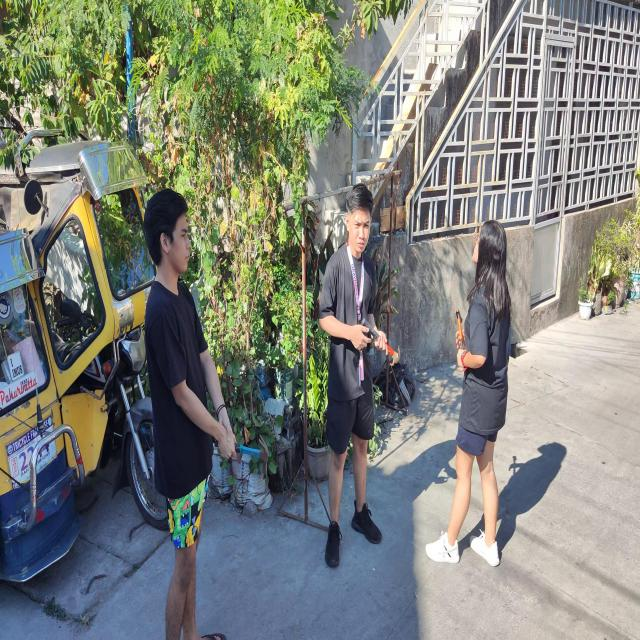hammer: (214, 434, 268, 476), (362, 318, 400, 367), (454, 308, 468, 377)
